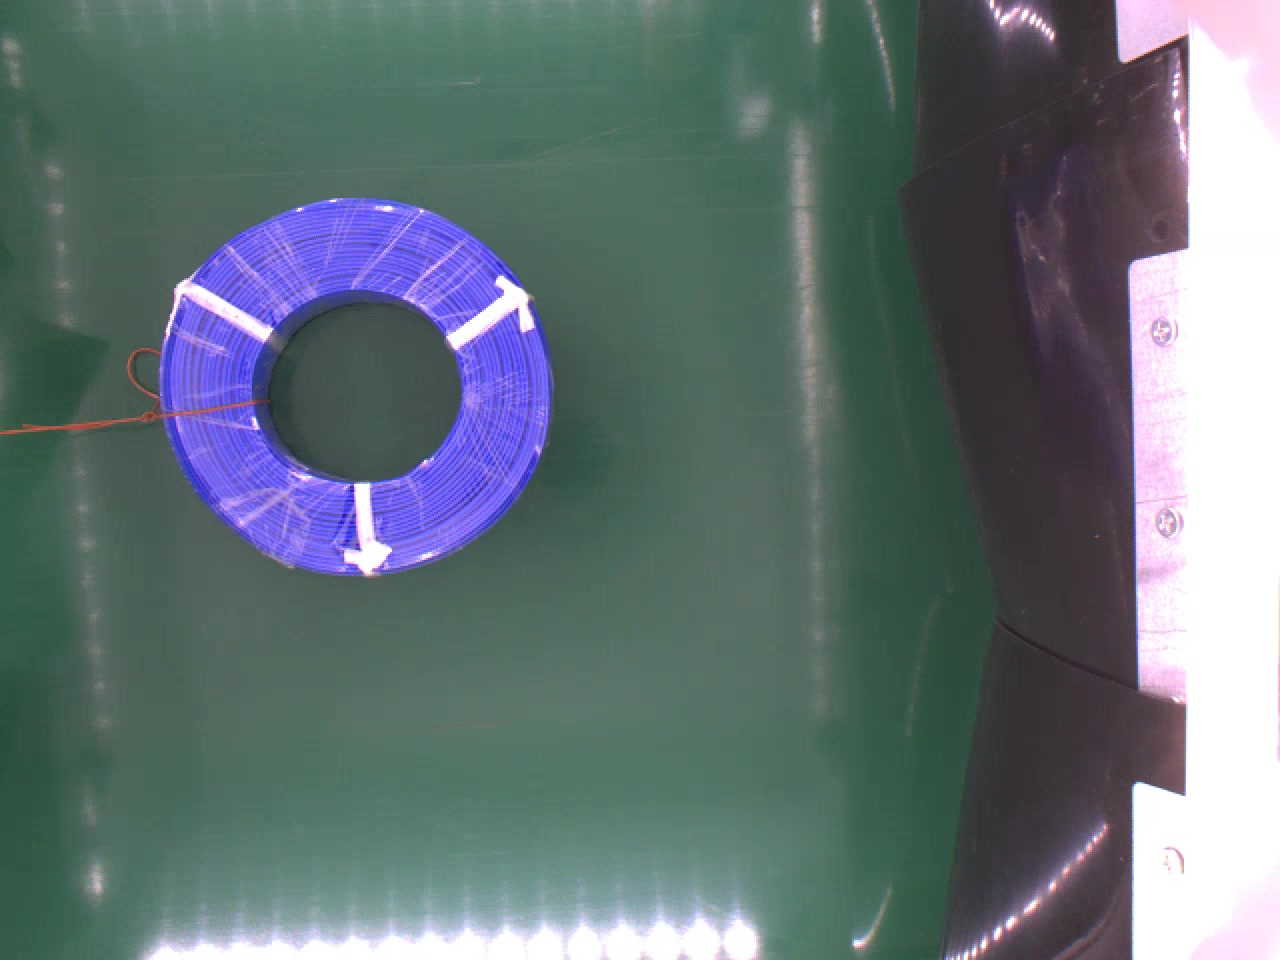blue: (152, 191, 547, 571)
